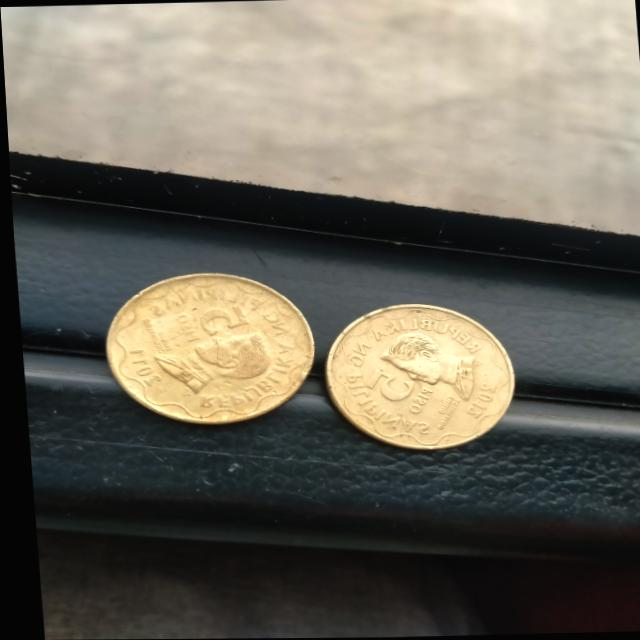5_Old_Front: (163, 298, 252, 353), (356, 363, 438, 420)
